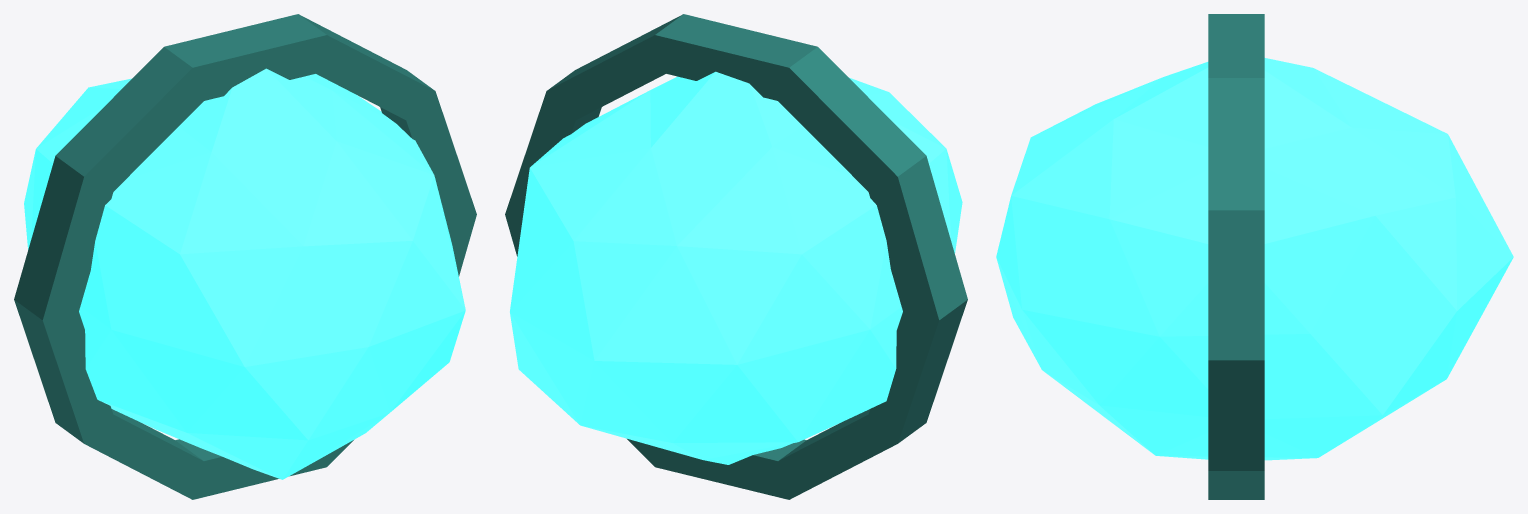
The model's file is EM_Proj_AquaGlob.glb.
3 views of the same model, side by side, from view 1: azimuth 30°, elevation 25°; view 2: azimuth 150°, elevation 25°; view 3: azimuth 270°, elevation 25° (orthographic). The views are drawn at different scales.
Visible parts, largest first — view 1: Proj_AquaGlob__Core__AquaGlow, Proj_AquaGlob__Core__SnapperTeal; view 2: Proj_AquaGlob__Core__AquaGlow, Proj_AquaGlob__Core__SnapperTeal; view 3: Proj_AquaGlob__Core__AquaGlow, Proj_AquaGlob__Core__SnapperTeal.
Boxes of the visible parts, bbox=[...] form: Proj_AquaGlob__Core__AquaGlow: bbox=[24, 68, 465, 479]; Proj_AquaGlob__Core__SnapperTeal: bbox=[14, 14, 476, 499]; Proj_AquaGlob__Core__AquaGlow: bbox=[510, 71, 962, 464]; Proj_AquaGlob__Core__SnapperTeal: bbox=[505, 14, 967, 499]; Proj_AquaGlob__Core__AquaGlow: bbox=[996, 58, 1513, 460]; Proj_AquaGlob__Core__SnapperTeal: bbox=[1208, 14, 1264, 499].
Size of the model in its own units: 1.89 by 1.8 by 2.
